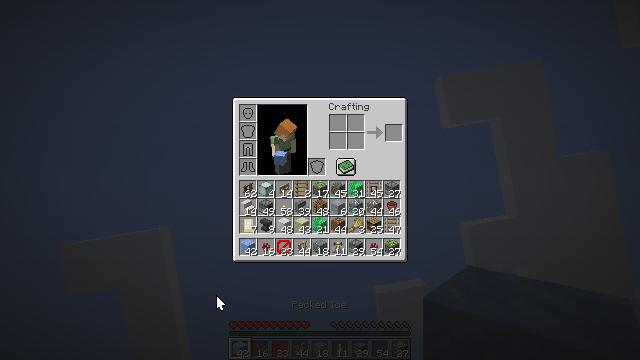cursor: (216, 295, 226, 311)
